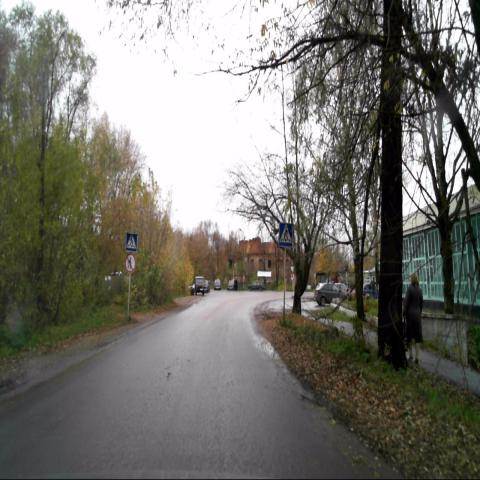3_10: (124, 252, 136, 272)
